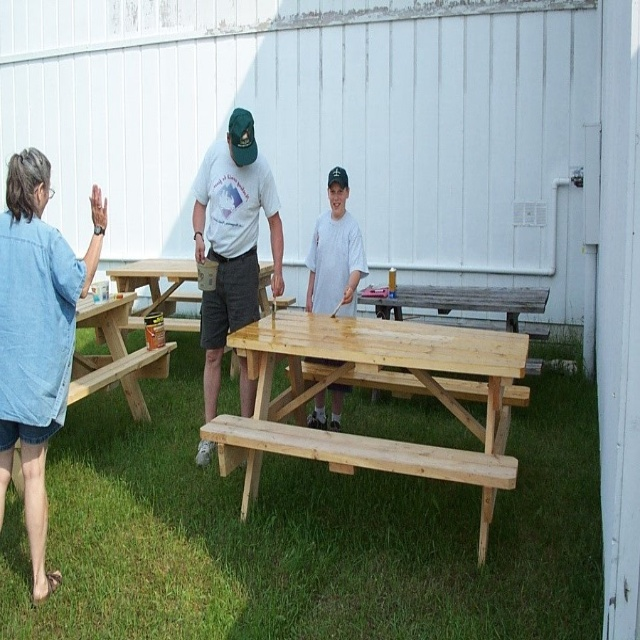obstacle: (202, 287, 566, 551)
